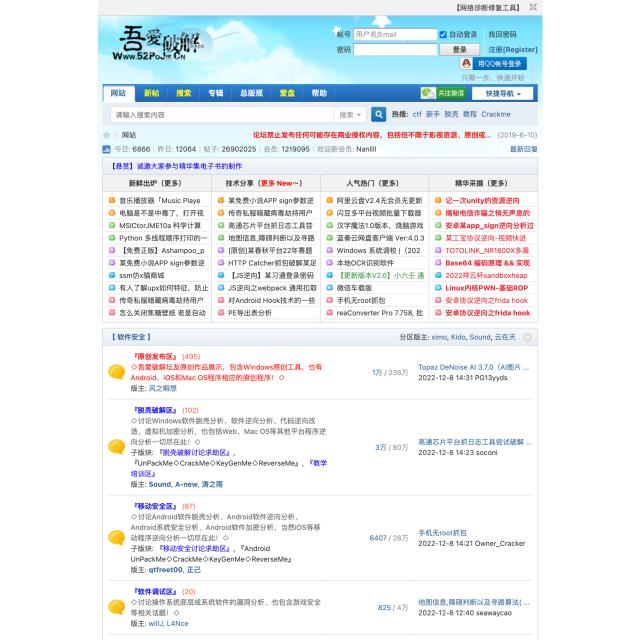CheckBox: (459, 57, 526, 70), (472, 86, 534, 100), (421, 86, 466, 99), (440, 43, 480, 56), (371, 106, 387, 122), (439, 31, 447, 38)
CheckedTextView: (111, 106, 367, 122), (353, 27, 438, 41), (353, 42, 438, 56)
QR code: (102, 192, 212, 322), (212, 191, 320, 322), (321, 192, 428, 322), (430, 192, 537, 322), (101, 142, 382, 156)
SeekBar: (101, 130, 138, 140)
alert: (334, 106, 367, 122), (486, 88, 522, 98), (339, 110, 361, 119)
bag: (98, 0, 542, 126)
data feed: (336, 29, 351, 39), (452, 45, 468, 54), (337, 45, 351, 54)
date picker: (110, 21, 240, 66)
footer: (114, 110, 166, 119), (355, 29, 397, 39)
icon: (101, 82, 337, 102)
